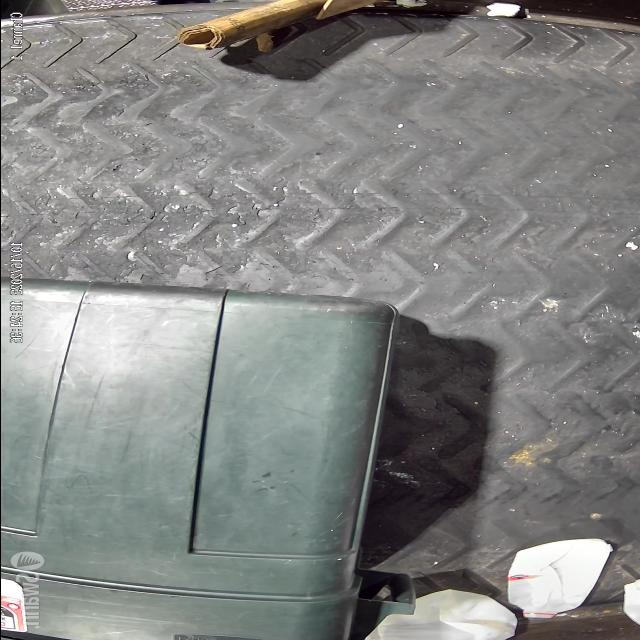milk_jug: (508, 538, 613, 619), (363, 589, 518, 640)
